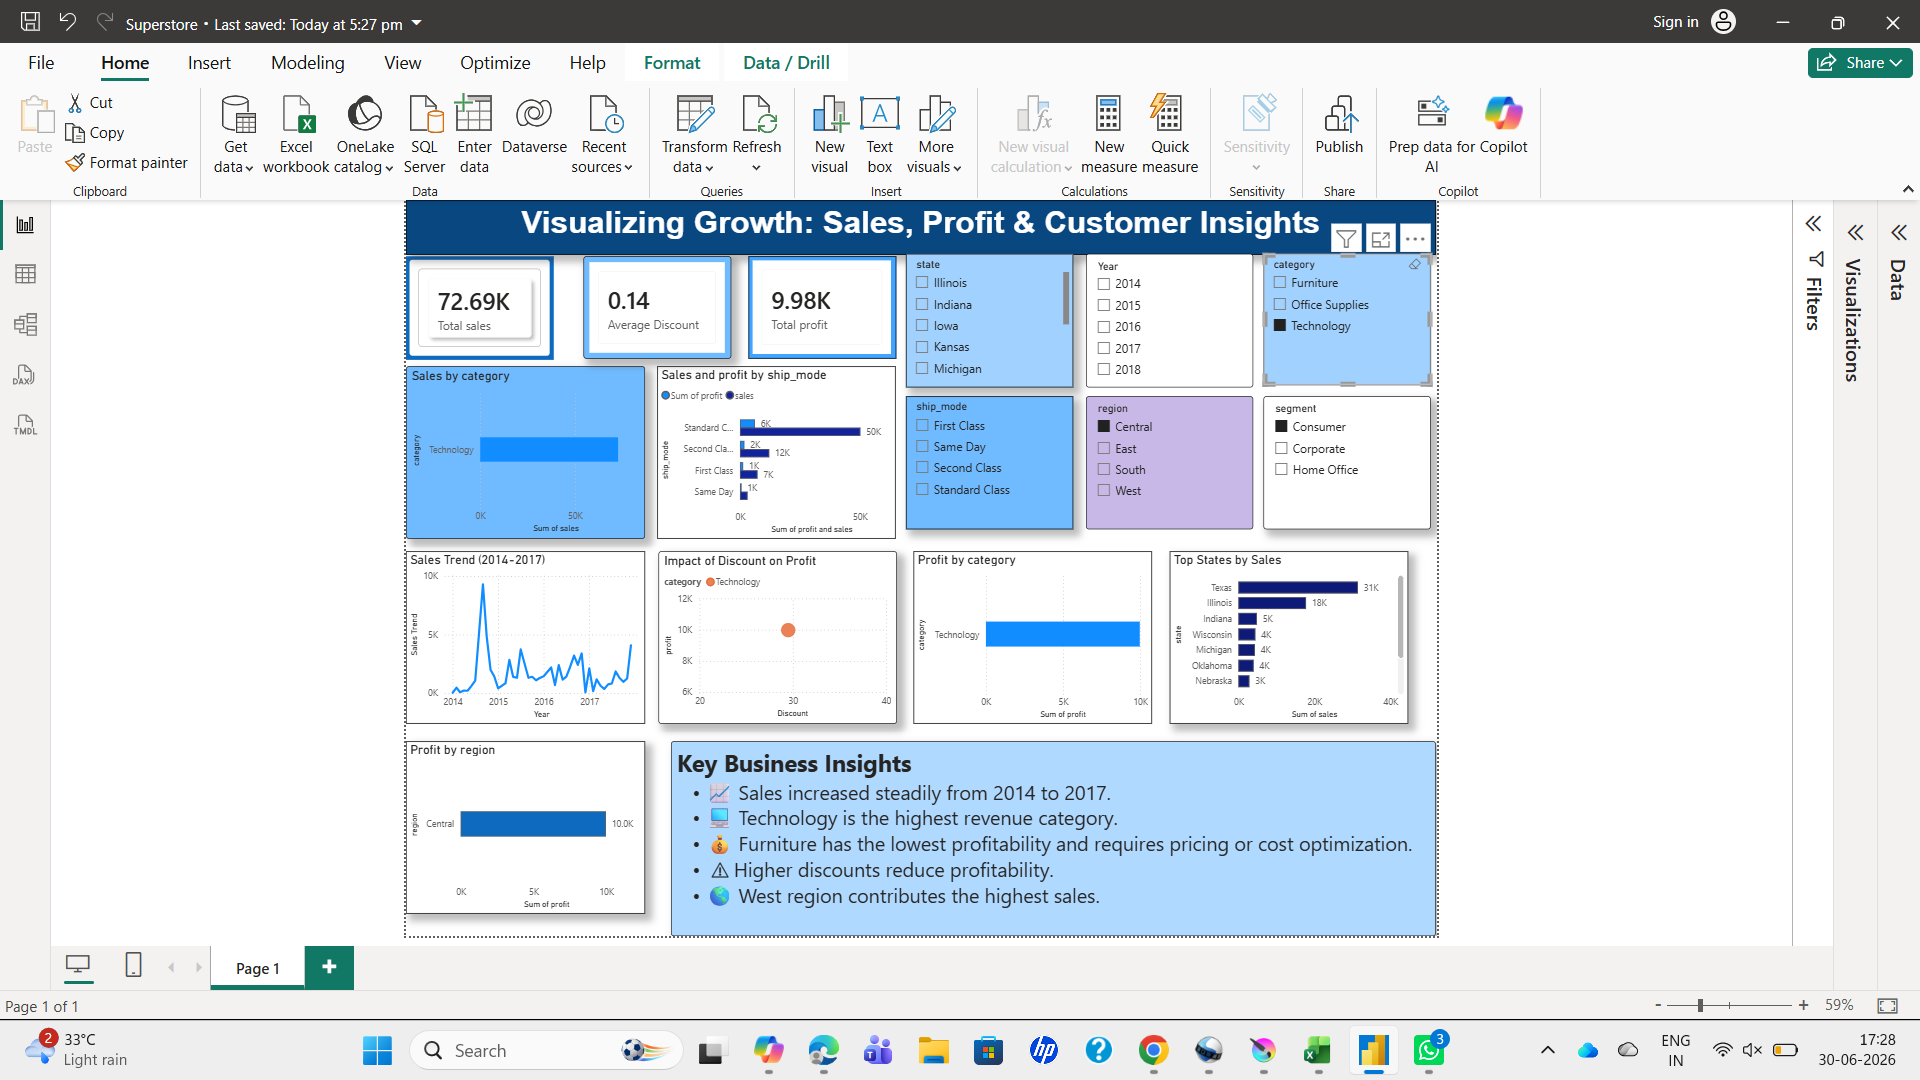

The page's visual inventory and layout, read from the dashboard file:
{"tool":"powerbi","page":{"name":"Page 1","canvas":[1400,1000],"ordinal":0},"visuals":[{"type":"cardVisual","fields":{"Data":["Sum(cleaned_superstore.sales)"]},"box":[0,76.4,200.4,141],"z":0},{"type":"clusteredBarChart","title":"Sales by category","fields":{"Category":["cleaned_superstore.category"],"Y":["Sum(cleaned_superstore.sales)"]},"box":[0,225,325,234.6],"z":1000},{"type":"lineChart","title":"Sales Trend (2014-2017)","fields":{"Y":["Sum(cleaned_superstore.sales)"],"Category":["cleaned_superstore.order_date.Variation.Date Hierarchy.Year","cleaned_superstore.order_date.Variation.Date Hierarchy.Month"]},"box":[0,477.5,325,234],"z":2000},{"type":"scatterChart","title":"Impact of Discount on Profit","fields":{"X":["Sum(cleaned_superstore.discount)"],"Y":["Sum(cleaned_superstore.profit)"],"Series":["cleaned_superstore.category"],"Size":["Sum(cleaned_superstore.sales)"]},"box":[343.1,477.2,324.4,234.4],"z":3000},{"type":"clusteredBarChart","title":"Sales and profit  by ship_mode","fields":{"Category":["cleaned_superstore.ship_mode"],"Y":["Sum(cleaned_superstore.profit)","Sum(cleaned_superstore.sales)"]},"box":[341.4,225.9,324.4,234.4],"z":4000},{"type":"textbox","box":[0,0,1399.5,74.7],"z":4002},{"type":"slicer","fields":{"Values":["cleaned_superstore.region"]},"box":[923.9,266.6,227.6,181],"z":4003},{"type":"slicer","fields":{"Values":["cleaned_superstore.ship_date.Variation.Date Hierarchy.Year"]},"box":[923.9,73,227.6,181.7],"z":4006},{"type":"slicer","fields":{"Values":["cleaned_superstore.category"]},"box":[1165.1,73,227.6,178.3],"z":4007},{"type":"cardVisual","fields":{"Data":["Avg(cleaned_superstore.discount)"]},"box":[241.2,76.4,200.4,139.3],"z":4008},{"type":"cardVisual","fields":{"Data":["Sum(cleaned_superstore.profit)"]},"box":[465.4,76.4,200.4,139.3],"z":4009},{"type":"slicer","fields":{"Values":["cleaned_superstore.state"]},"box":[679.4,73,227.6,181.7],"z":4010},{"type":"clusteredBarChart","title":" Profit by region","fields":{"Category":["cleaned_superstore.region"],"Y":["Sum(cleaned_superstore.profit)"]},"box":[0,735.4,325,234],"z":4011},{"type":"barChart","title":" Profit by category","fields":{"Y":["Sum(cleaned_superstore.profit)"],"Category":["cleaned_superstore.category"]},"box":[689.5,477.2,324.4,234.4],"z":4012},{"type":"slicer","fields":{"Values":["cleaned_superstore.ship_mode"]},"box":[679.4,266.6,227,181],"z":4013},{"type":"slicer","fields":{"Values":["cleaned_superstore.segment"]},"box":[1165.1,266.6,227,181],"z":4014},{"type":"clusteredBarChart","title":"Top States by Sales","fields":{"Category":["cleaned_superstore.state"],"Y":["Sum(cleaned_superstore.sales)"]},"box":[1037.7,477.2,324.4,234.4],"z":4015},{"type":"textbox","box":[360.1,735.4,1039.4,264.9],"z":4016}]}

Visuals, with their boxes on the page's 1400x1000 design canvas (x1, y1, x2, y2). These are canvas units, not pixel positions in the 1920x1080 screenshot, which may show the page scaled, cropped or inside an application window:
cardVisual - Sum(cleaned_superstore.sales): 0 76 200 217
"Sales by category" clusteredBarChart: 0 225 325 460
"Sales Trend (2014-2017)" lineChart: 0 478 325 712
"Impact of Discount on Profit" scatterChart: 343 477 668 712
"Sales and profit  by ship_mode" clusteredBarChart: 341 226 666 460
textbox: 0 0 1400 75
slicer - cleaned_superstore.region: 924 267 1152 448
slicer - cleaned_superstore.ship_date.Variation.Date Hierarchy.Year: 924 73 1152 255
slicer - cleaned_superstore.category: 1165 73 1393 251
cardVisual - Avg(cleaned_superstore.discount): 241 76 442 216
cardVisual - Sum(cleaned_superstore.profit): 465 76 666 216
slicer - cleaned_superstore.state: 679 73 907 255
" Profit by region" clusteredBarChart: 0 735 325 969
" Profit by category" barChart: 690 477 1014 712
slicer - cleaned_superstore.ship_mode: 679 267 906 448
slicer - cleaned_superstore.segment: 1165 267 1392 448
"Top States by Sales" clusteredBarChart: 1038 477 1362 712
textbox: 360 735 1400 1000
